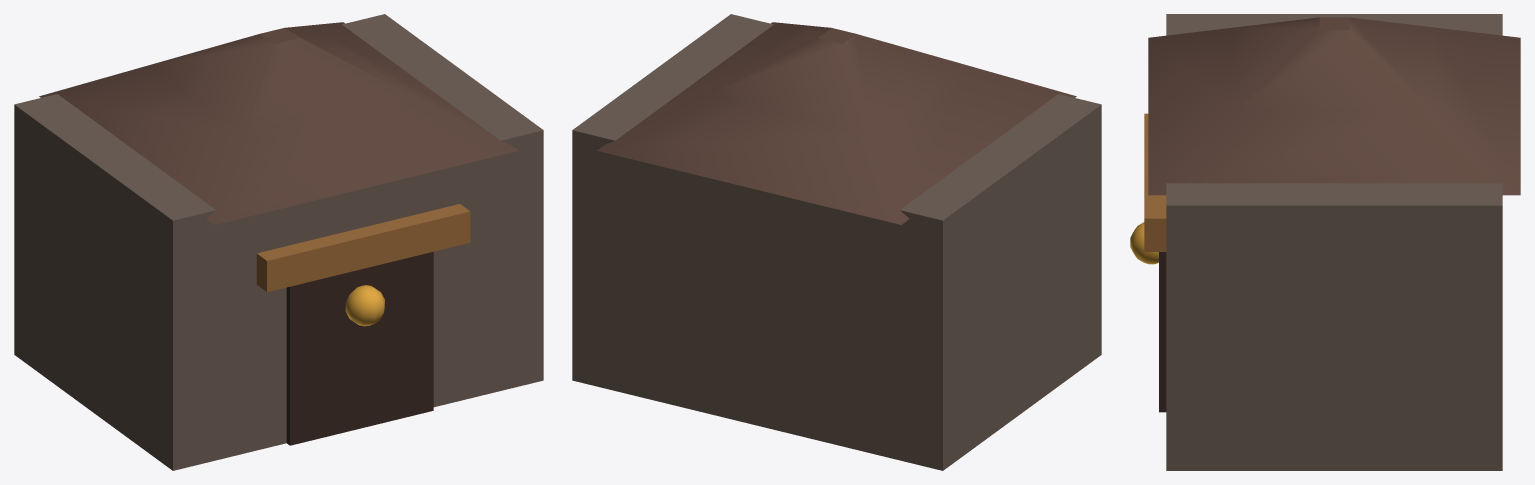
File: imp_dong_fu.glb
The picture shows the model from 3 angles, left to right: view 1: azimuth 30°, elevation 25°; view 2: azimuth 150°, elevation 25°; view 3: azimuth 270°, elevation 25°; orthographic projection. The views are drawn at different scales.
Parts seen in each view (by area): view 1: _MeshInstance3D_250, _MeshInstance3D_253, _MeshInstance3D_251, _MeshInstance3D_252, _MeshInstance3D_254; view 2: _MeshInstance3D_250, _MeshInstance3D_253; view 3: _MeshInstance3D_250, _MeshInstance3D_253, _MeshInstance3D_252, _MeshInstance3D_251, _MeshInstance3D_254.
Boxes of the visible parts, x1,y1,x2,y2 form: _MeshInstance3D_250: [14, 14, 543, 470]; _MeshInstance3D_253: [39, 22, 518, 224]; _MeshInstance3D_251: [286, 251, 433, 445]; _MeshInstance3D_252: [256, 204, 470, 292]; _MeshInstance3D_254: [345, 285, 384, 326]; _MeshInstance3D_250: [572, 14, 1101, 470]; _MeshInstance3D_253: [597, 22, 1076, 224]; _MeshInstance3D_250: [1166, 14, 1502, 470]; _MeshInstance3D_253: [1148, 17, 1520, 195]; _MeshInstance3D_252: [1144, 113, 1166, 251]; _MeshInstance3D_251: [1159, 252, 1166, 412]; _MeshInstance3D_254: [1130, 222, 1158, 264].
Size of the model in its own units: 0.62 by 0.53 by 0.5338.
